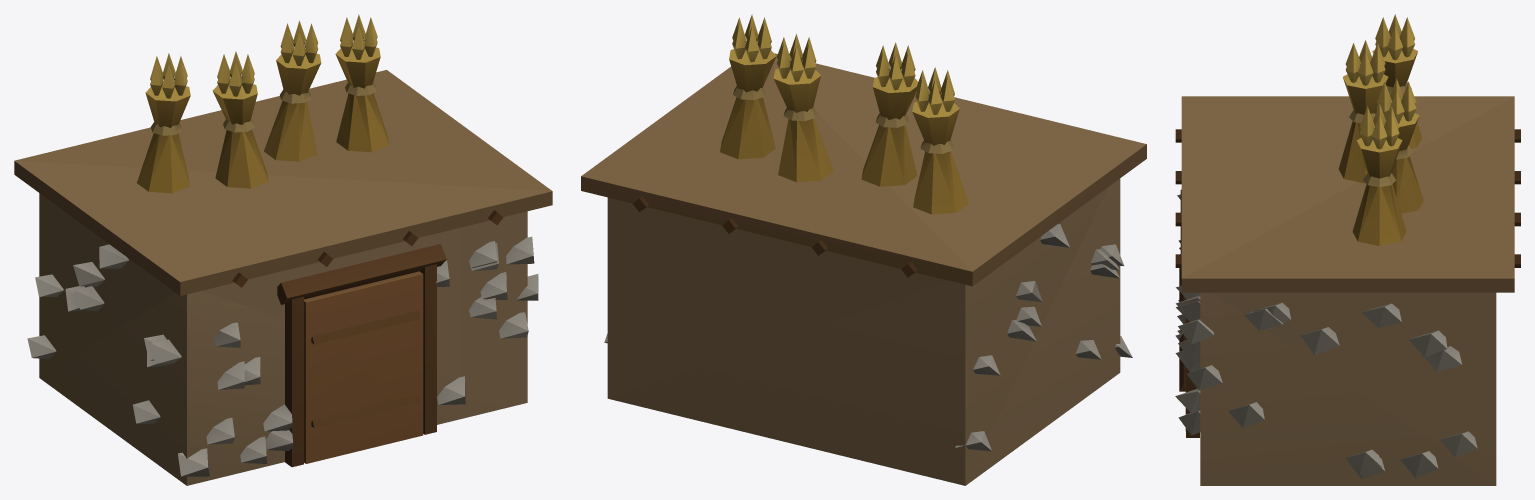
File: granary.glb
3 renders of one model, left to right at view 1: azimuth 30°, elevation 25°; view 2: azimuth 150°, elevation 25°; view 3: azimuth 270°, elevation 25°, orthographic. The views are drawn at different scales.
Visible parts, largest first — view 1: base, door_m; view 2: base; view 3: base, door_m.
Part boxes in pixels (x1=…): base: x1=14, y1=14, x2=552, y2=485; door_m: x1=304, y1=271, x2=423, y2=463; base: x1=581, y1=14, x2=1146, y2=485; base: x1=1175, y1=14, x2=1520, y2=485; door_m: x1=1179, y1=268, x2=1185, y2=430.
Size of the model in its own units: 0.7074 by 0.605 by 0.5609.
